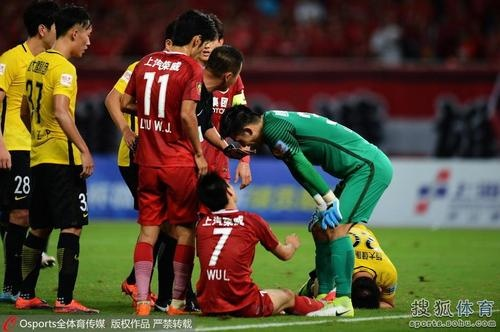falling: (296, 207, 413, 309)
